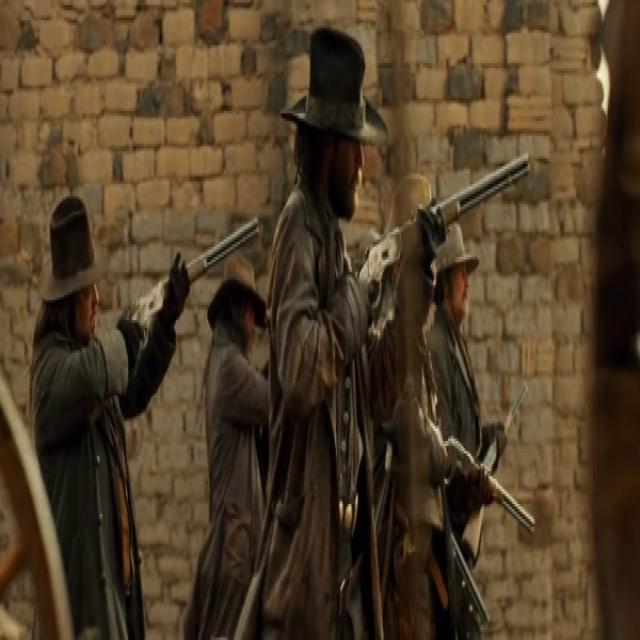rifle: (358, 140, 536, 307), (130, 212, 268, 334), (428, 427, 542, 538)
